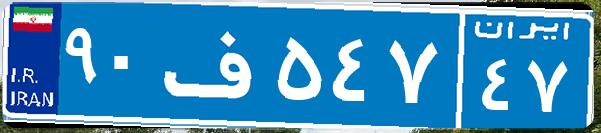0: (110, 28, 158, 105)
4: (330, 28, 385, 110), (475, 38, 525, 113)
5: (273, 28, 330, 110)
7: (385, 28, 445, 110), (525, 38, 570, 115)
9: (57, 26, 110, 107)
ف: (158, 15, 273, 115)
